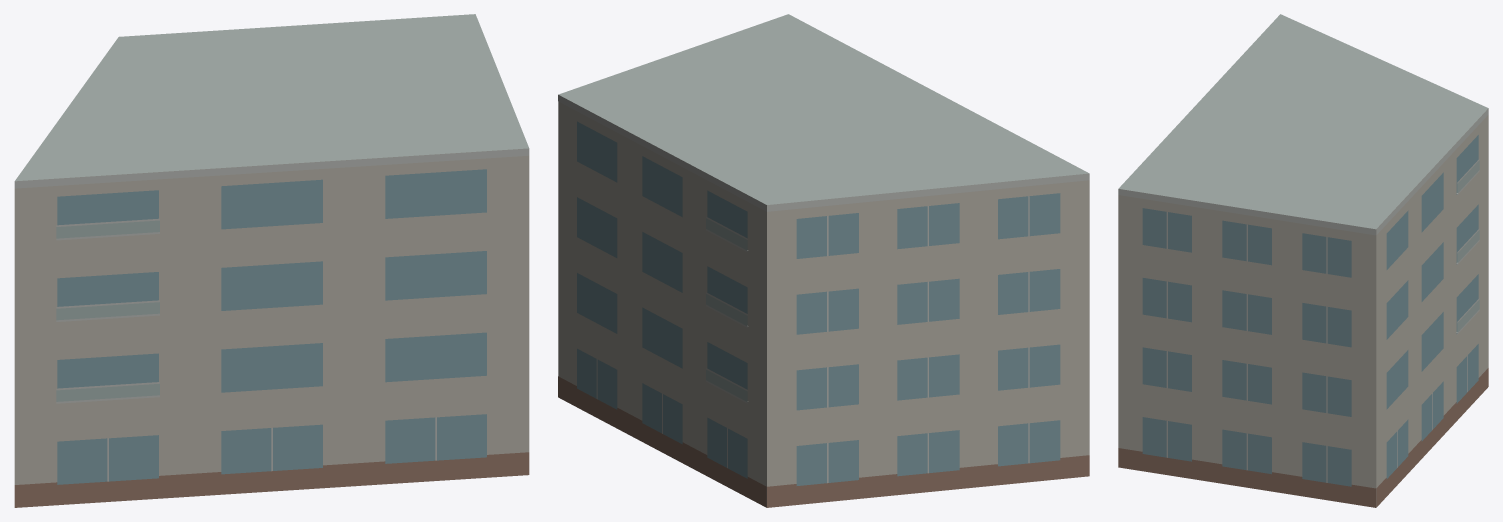
File: survey-upis-32656530.glb
The picture shows the model from 3 angles, left to right: view 1: azimuth 30°, elevation 25°; view 2: azimuth 150°, elevation 25°; view 3: azimuth 270°, elevation 25°; orthographic projection. The views are drawn at different scales.
Parts seen in each view (by area): view 1: survey-upis-32656530.tmp; view 2: survey-upis-32656530.tmp; view 3: survey-upis-32656530.tmp.
Part boxes in pixels (box(x1,y1,x2,y2)): survey-upis-32656530.tmp: box(14, 14, 529, 507); survey-upis-32656530.tmp: box(558, 14, 1089, 507); survey-upis-32656530.tmp: box(1118, 14, 1488, 507).
Size of the model in its own units: 18.07 by 10.9 by 13.14.
